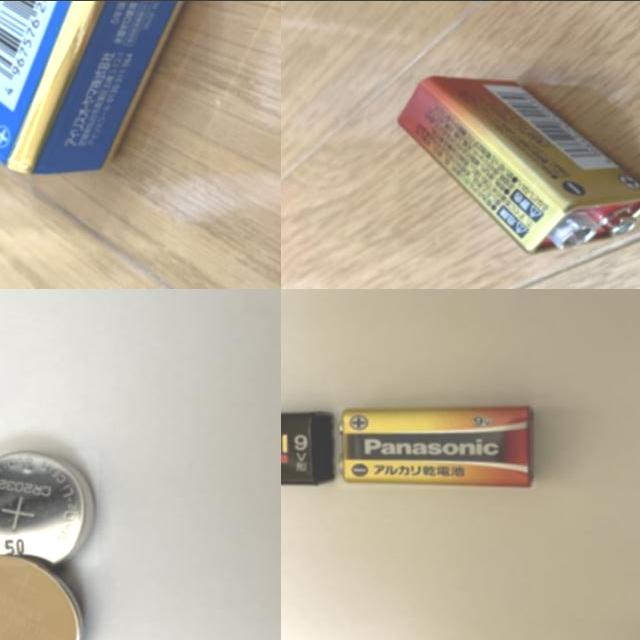9V: (398, 75, 640, 257), (0, 0, 209, 176), (338, 406, 536, 488), (281, 411, 334, 486)
